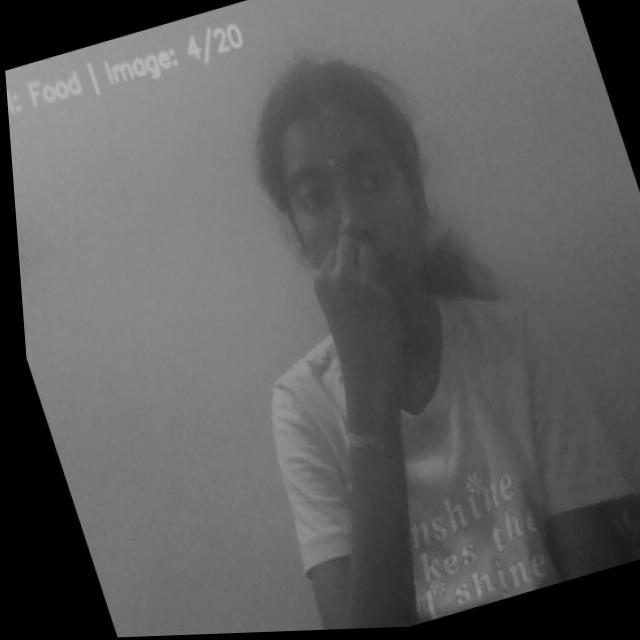Food: (289, 221, 417, 370)
